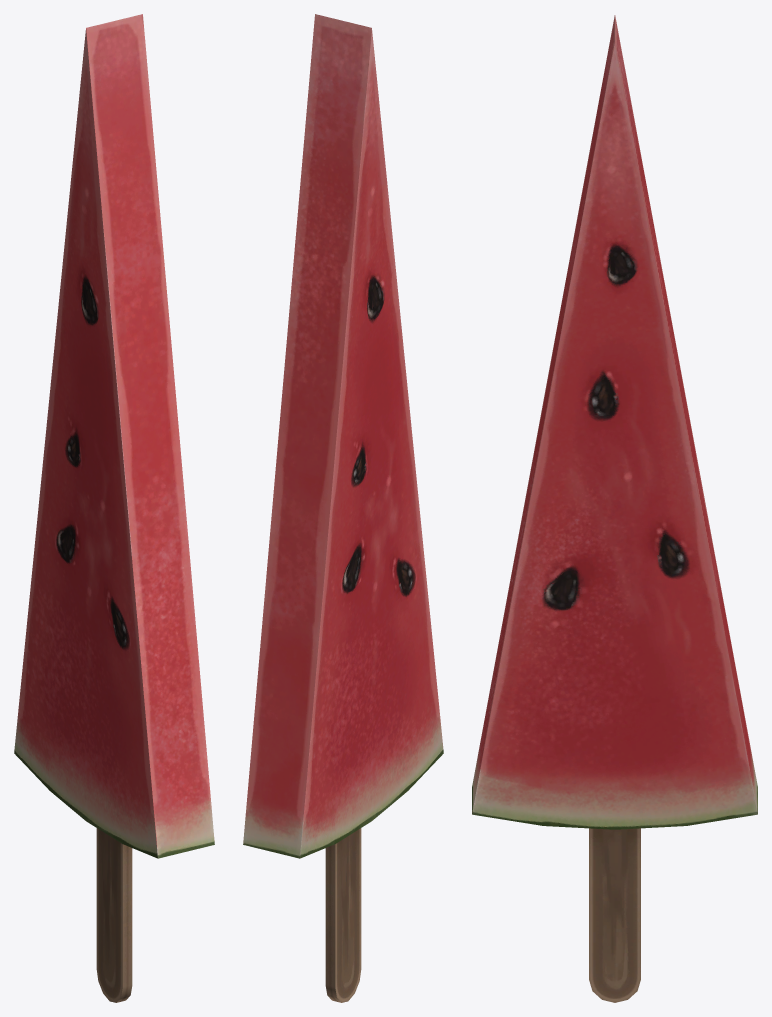
The model's file is WatermelonSword.glb.
The picture shows the model from 3 angles, left to right: view 1: azimuth 30°, elevation 25°; view 2: azimuth 150°, elevation 25°; view 3: azimuth 270°, elevation 25°; orthographic projection.
Parts seen in each view (by area): view 1: sword2; view 2: sword2; view 3: sword2.
Part boxes in pixels (x1=…): sword2: x1=14, y1=14, x2=214, y2=1002; sword2: x1=243, y1=14, x2=443, y2=1002; sword2: x1=472, y1=15, x2=757, y2=1002.
Bounding box in the file's own units: 0.03 × 0.4937 × 0.1315.
Materials: 1 (1 with a texture image).
